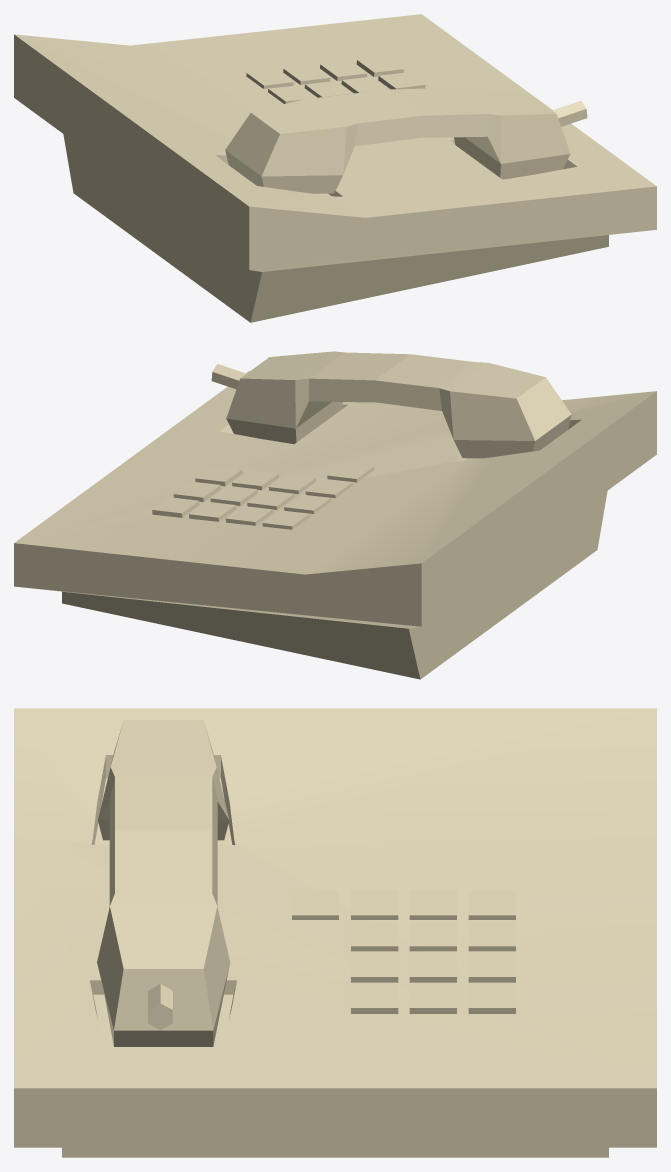
File: Phone.fbx
3 views of the same model, one above another, from view 1: azimuth 30°, elevation 25°; view 2: azimuth 150°, elevation 25°; view 3: azimuth 270°, elevation 25° (orthographic). The views are drawn at different scales.
Visible parts, largest first — view 1: PhoneBase, Phone, pCube16, pCube13, pCube9, pCube19, pCube15, PhoneCord, pCube18, pCube12, pCube8; view 2: PhoneBase, Phone, pCube16, pCube13, pCube14, pCube15, pCube11, pCube12, pCube9, pCube8, pCube10, pCube19 (+4 smaller); view 3: PhoneBase, Phone, pCube11, pCube12, pCube13, pCube14, pCube15, pCube16, pCube8, pCube9, pCube10, pCube17 (+4 smaller).
Boxes of the visible parts, x1,y1,x2,y2 form: PhoneBase: (14,14,656,322); Phone: (225,86,570,193); pCube16: (356,56,403,76); pCube13: (320,61,367,80); pCube9: (283,65,330,84); pCube19: (246,69,293,88); pCube15: (378,72,425,89); PhoneCord: (552,101,587,126); pCube18: (268,85,314,103); pCube12: (341,76,388,93); pCube8: (304,81,351,97); PhoneBase: (14,371,656,679); Phone: (226,351,571,458); pCube16: (152,497,199,517); pCube13: (189,501,236,521); pCube14: (195,465,242,486); pCube15: (173,481,220,501); pCube11: (232,470,279,490); pCube12: (210,486,257,505); pCube9: (225,506,272,525); pCube8: (247,490,294,509); pCube10: (268,474,315,494); pCube19: (262,510,309,529); PhoneBase: (14,708,656,1157); Phone: (97,720,230,1046); pCube11: (351,952,398,982); pCube12: (409,952,456,982); pCube13: (468,952,515,982); pCube14: (351,983,398,1013); pCube15: (409,983,456,1013); pCube16: (468,983,515,1013); pCube8: (409,921,456,951); pCube9: (468,921,515,951); pCube10: (351,921,398,951); pCube17: (351,890,398,919).
Bounding box in the file's own units: 0.2345 × 0.094 × 0.2345.
